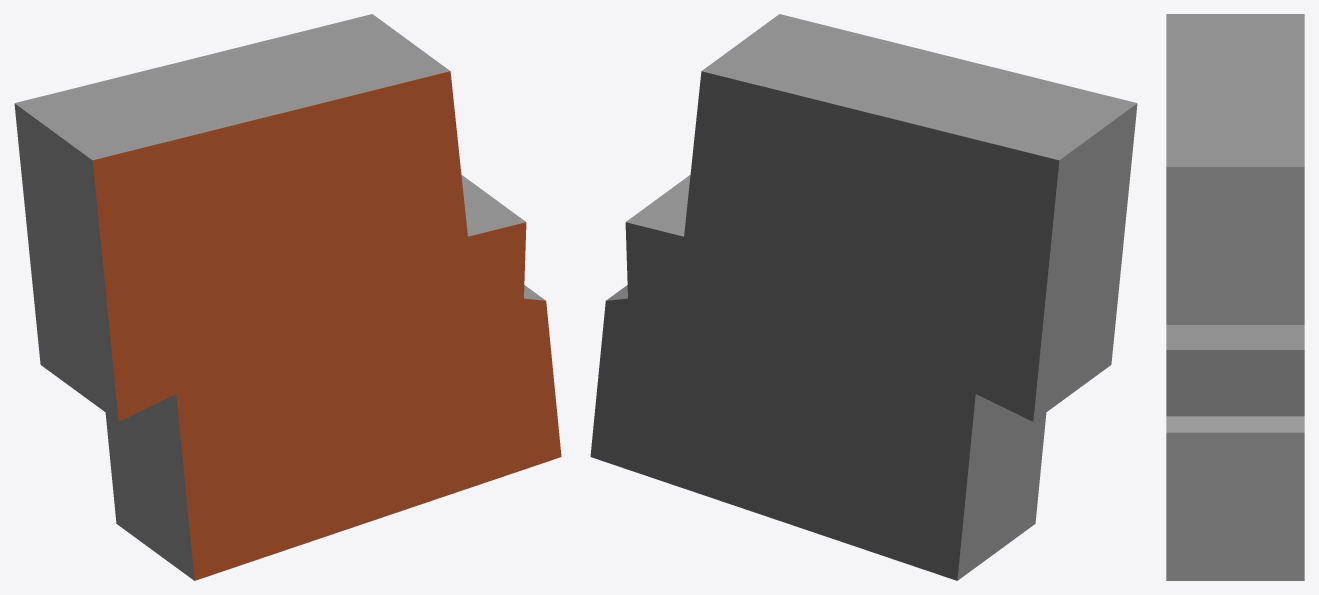
File: construction_0734_assumed_A_Casa_h6m.obj
3 renders of one model, left to right at view 1: azimuth 30°, elevation 25°; view 2: azimuth 150°, elevation 25°; view 3: azimuth 270°, elevation 25°, orthographic. The views are drawn at different scales.
Parts seen in each view (by area): view 1: construction_0734_assumed_A_Casa; view 2: construction_0734_assumed_A_Casa; view 3: construction_0734_assumed_A_Casa.
Boxes of the visible parts, <box> form: construction_0734_assumed_A_Casa: <box>14,14,561,580</box>; construction_0734_assumed_A_Casa: <box>590,14,1137,580</box>; construction_0734_assumed_A_Casa: <box>1166,14,1304,580</box>.
Size of the model in its own units: 20.79 by 18.95 by 6.
